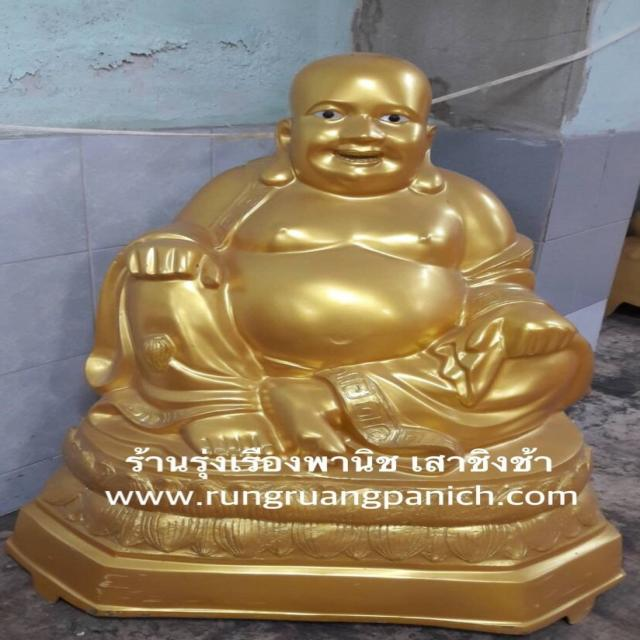Smiling Buddha: (78, 49, 602, 464)
